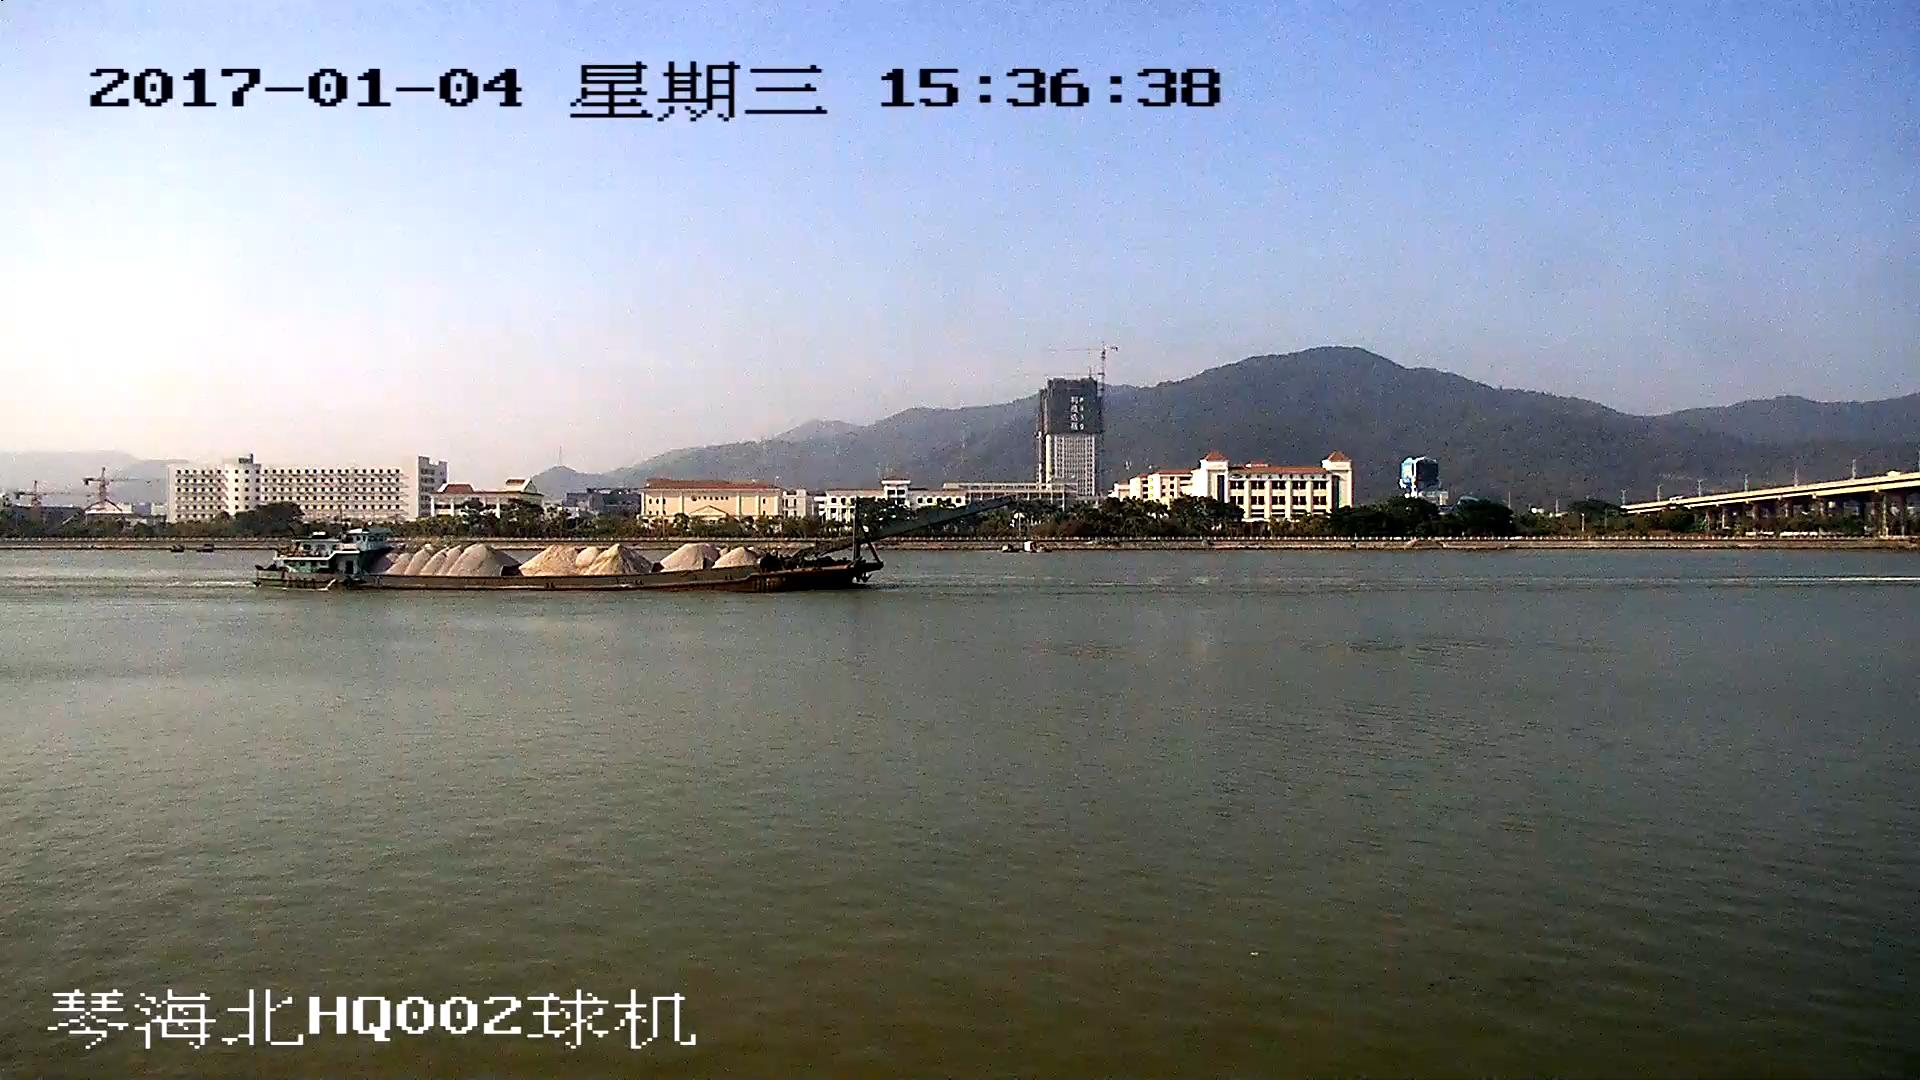ore carrier: (253, 502, 1010, 588)
